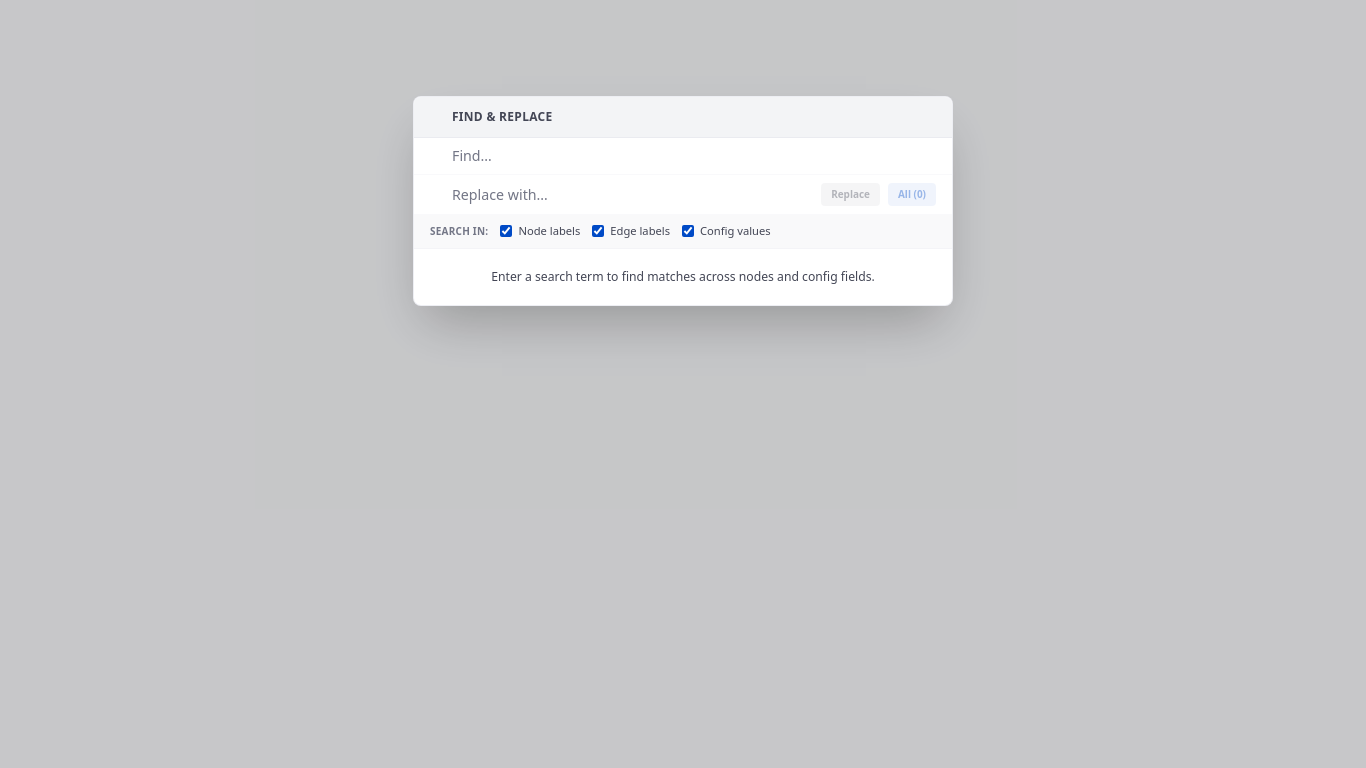
Test case: FindReplaceOverlay › queryWithMatches_listsMatchCount
Step 1. Type "step" into the field with placeholder "Find…" → (694, 156), box x1=452 y1=146 x2=936 y2=166
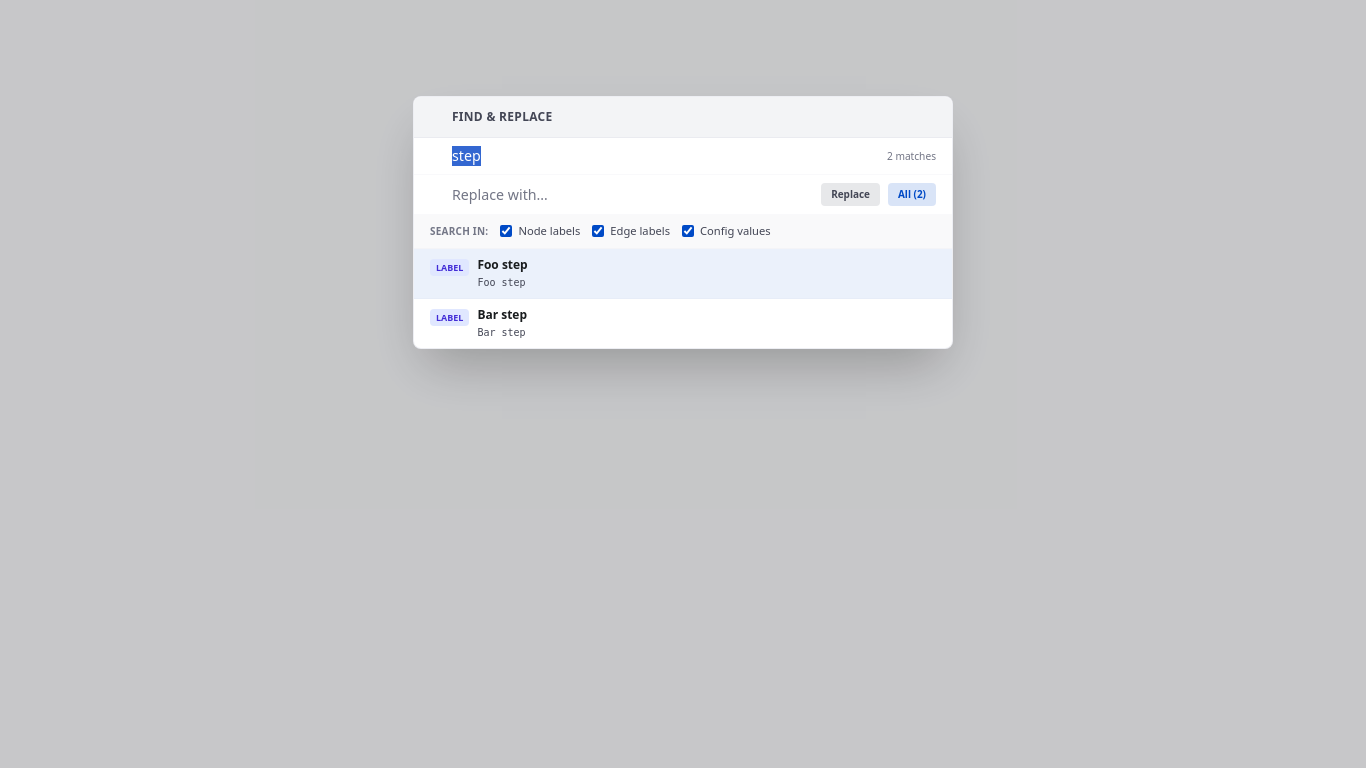
Result: the text "2 matches" is shown at x1=887 y1=148 x2=936 y2=164
